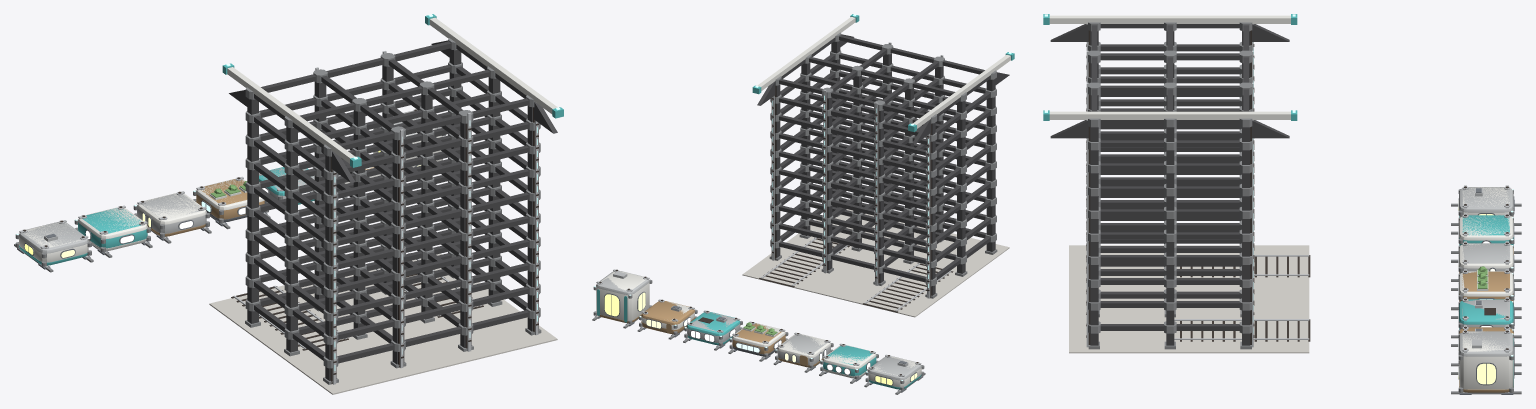
Rendered from event-shelf-2127.glb.
3 views of the same model, side by side, from view 1: azimuth 30°, elevation 25°; view 2: azimuth 150°, elevation 25°; view 3: azimuth 270°, elevation 25° (orthographic). The views are drawn at different scales.
Visible parts, largest first — view 1: SHELF_FRAME_frame, SHELF_FRAME_paving, SHELF_FRAME_joint, SHELF_FRAME_rail, SHELF_FRAME_dark, SHELF_FRAME_white, MOD_B_teal, MOD_A_grey, MOD_C_grey, MOD_C_white, MOD_B_white, MOD_D_oak (+3 smaller); view 2: SHELF_FRAME_frame, SHELF_FRAME_paving, SHELF_FRAME_joint, SHELF_FRAME_dark, SHELF_FRAME_rail, SHELF_FRAME_white, MOD_H_white, MOD_F_oak, MOD_A_grey, MOD_E_teal, MOD_C_grey, MOD_B_teal (+8 smaller); view 3: SHELF_FRAME_frame, SHELF_FRAME_paving, SHELF_FRAME_joint, SHELF_FRAME_white, SHELF_FRAME_dark, SHELF_FRAME_rail, MOD_H_white, MOD_A_grey, MOD_H_grey, MOD_B_teal, MOD_C_grey, MOD_B_white (+6 smaller).
Part boxes in pixels (bbox=[...]): SHELF_FRAME_frame: bbox=[229, 40, 557, 380]; SHELF_FRAME_paving: bbox=[209, 253, 557, 394]; SHELF_FRAME_joint: bbox=[245, 38, 541, 384]; SHELF_FRAME_rail: bbox=[233, 51, 538, 384]; SHELF_FRAME_dark: bbox=[231, 107, 538, 383]; SHELF_FRAME_white: bbox=[227, 17, 557, 163]; MOD_B_teal: bbox=[78, 208, 147, 248]; MOD_A_grey: bbox=[19, 222, 88, 253]; MOD_C_grey: bbox=[137, 193, 206, 233]; MOD_C_white: bbox=[137, 193, 206, 224]; MOD_B_white: bbox=[78, 207, 147, 250]; MOD_D_oak: bbox=[196, 179, 264, 219]; SHELF_FRAME_frame: bbox=[757, 34, 1009, 295]; SHELF_FRAME_paving: bbox=[742, 209, 1009, 317]; SHELF_FRAME_joint: bbox=[769, 32, 997, 298]; SHELF_FRAME_dark: bbox=[759, 85, 953, 312]; SHELF_FRAME_rail: bbox=[761, 42, 951, 311]; SHELF_FRAME_white: bbox=[757, 17, 1010, 128]; MOD_H_white: bbox=[596, 271, 649, 320]; MOD_F_oak: bbox=[641, 301, 695, 334]; MOD_A_grey: bbox=[868, 356, 921, 380]; MOD_E_teal: bbox=[687, 312, 740, 345]; MOD_C_grey: bbox=[777, 334, 830, 365]; MOD_B_teal: bbox=[823, 345, 876, 376]; SHELF_FRAME_frame: bbox=[1050, 24, 1289, 345]; SHELF_FRAME_paving: bbox=[1069, 245, 1309, 353]; SHELF_FRAME_joint: bbox=[1088, 22, 1252, 349]; SHELF_FRAME_white: bbox=[1049, 15, 1290, 119]; SHELF_FRAME_dark: bbox=[1086, 30, 1310, 344]; SHELF_FRAME_rail: bbox=[1086, 24, 1309, 347]; MOD_H_white: bbox=[1459, 331, 1513, 389]; MOD_A_grey: bbox=[1459, 187, 1513, 212]; MOD_H_grey: bbox=[1459, 331, 1513, 356]; MOD_B_teal: bbox=[1459, 215, 1513, 245]; MOD_C_grey: bbox=[1459, 243, 1513, 273]; MOD_B_white: bbox=[1459, 216, 1513, 245].
Size of the model in its own units: 71.94 by 41.35 by 75.7.
